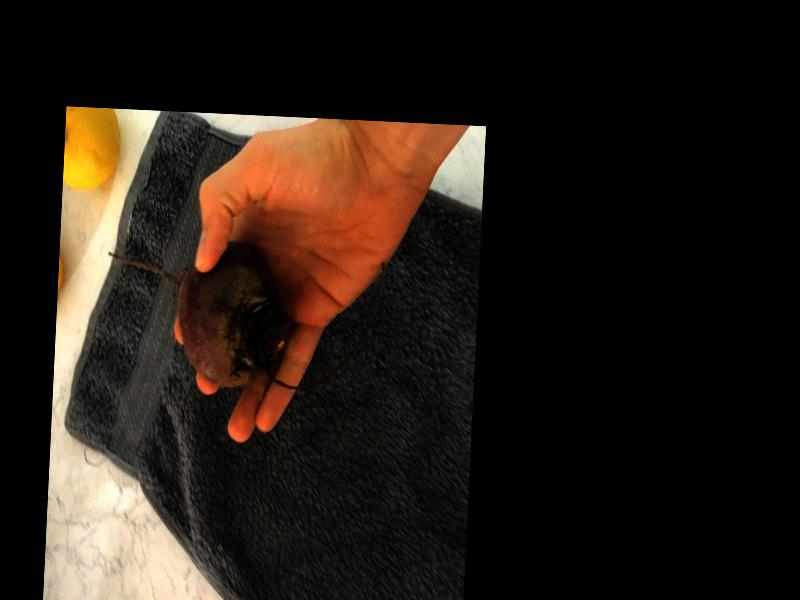Beet: (103, 235, 295, 387)
